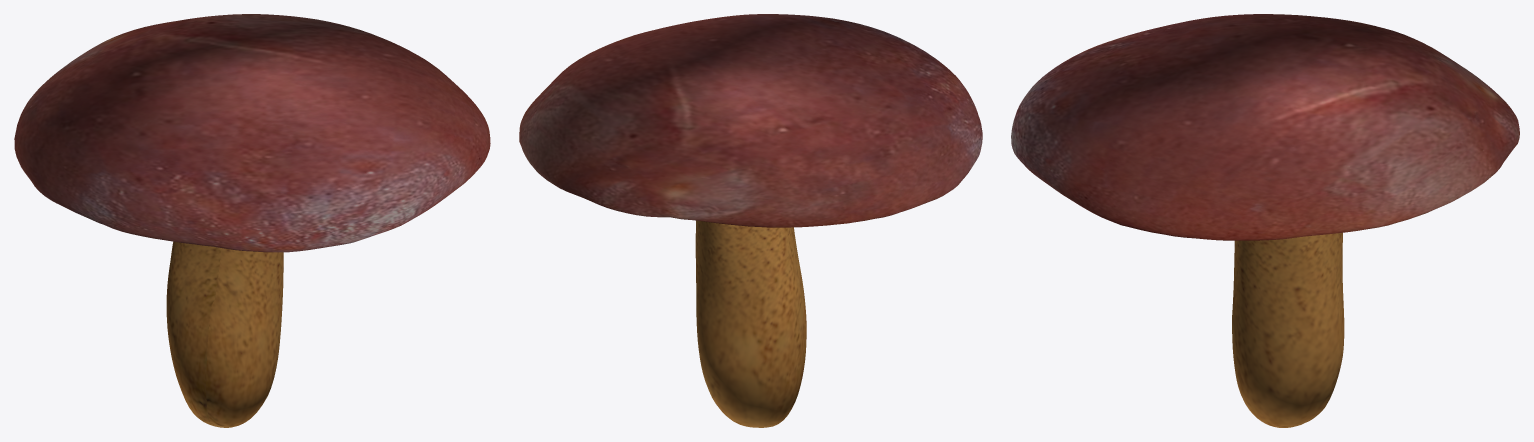
Rendered from SENE_43.fbx.
The picture shows the model from 3 angles, left to right: view 1: azimuth 30°, elevation 25°; view 2: azimuth 150°, elevation 25°; view 3: azimuth 270°, elevation 25°; orthographic projection. The views are drawn at different scales.
Visible parts, largest first — view 1: SENE_43; view 2: SENE_43; view 3: SENE_43.
Boxes of the visible parts, x1=… form: SENE_43: x1=14, y1=14, x2=490, y2=427; SENE_43: x1=519, y1=14, x2=982, y2=427; SENE_43: x1=1011, y1=14, x2=1519, y2=427.
Size of the model in its own units: 100 by 80.49 by 105.
Materials: 1 (1 with a texture image).
